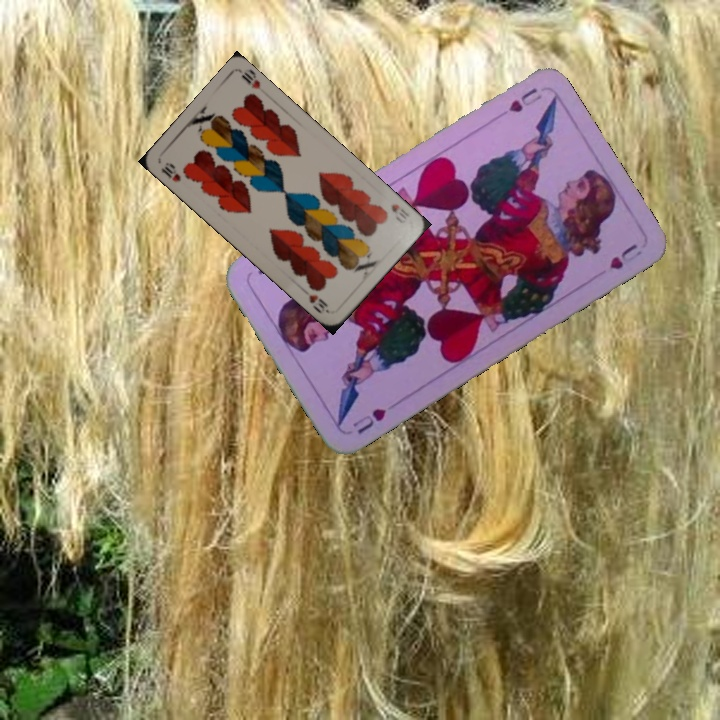H10: (157, 158, 184, 184), (387, 200, 408, 226)
HU: (491, 83, 545, 122), (348, 404, 389, 437)
